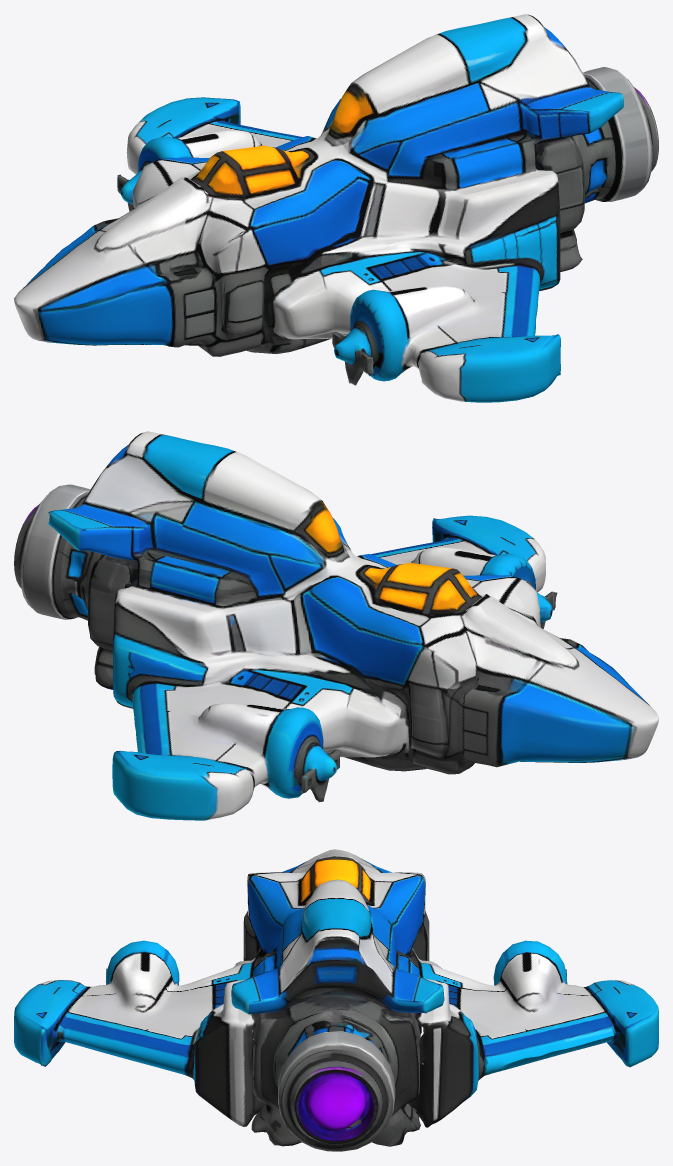
The model's file is Meshy_AI_Azure_Falcon_0522180730_texture.glb.
3 views of the same model, one above another, from view 1: azimuth 30°, elevation 25°; view 2: azimuth 150°, elevation 25°; view 3: azimuth 270°, elevation 25° (orthographic). The views are drawn at different scales.
Parts seen in each view (by area): view 1: Mesh_0; view 2: Mesh_0; view 3: Mesh_0.
Part boxes in pixels (<box>): Mesh_0: <box>14,14,658,402</box>; Mesh_0: <box>14,431,658,820</box>; Mesh_0: <box>14,849,658,1151</box>.
Bounding box in the file's own units: 1.91 × 0.7093 × 1.88.
1 material, 1 textured.
